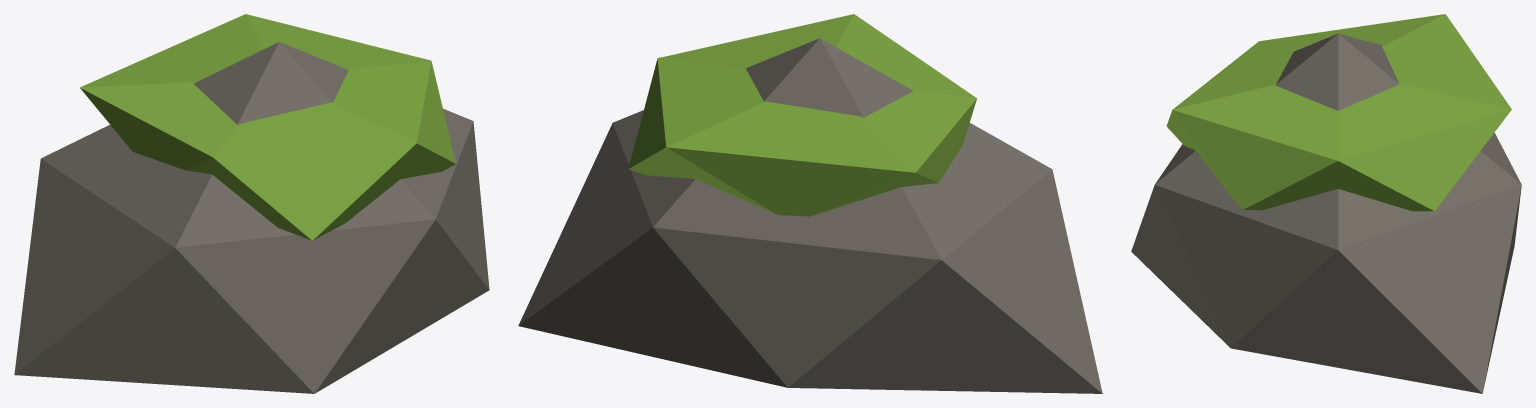
File: HS_LP_Rock_Medium_Moss_01.fbx
3 views of the same model, side by side, from view 1: azimuth 30°, elevation 25°; view 2: azimuth 150°, elevation 25°; view 3: azimuth 270°, elevation 25° (orthographic). The views are drawn at different scales.
Parts seen in each view (by area): view 1: HS_LP_Rock_Medium_Moss_01; view 2: HS_LP_Rock_Medium_Moss_01; view 3: HS_LP_Rock_Medium_Moss_01.
Boxes of the visible parts, x1,y1,x2,y2 form: HS_LP_Rock_Medium_Moss_01: (14,14,489,393); HS_LP_Rock_Medium_Moss_01: (518,14,1102,393); HS_LP_Rock_Medium_Moss_01: (1131,14,1521,393).
Bounding box in the file's own units: 135 × 80.85 × 98.74.
